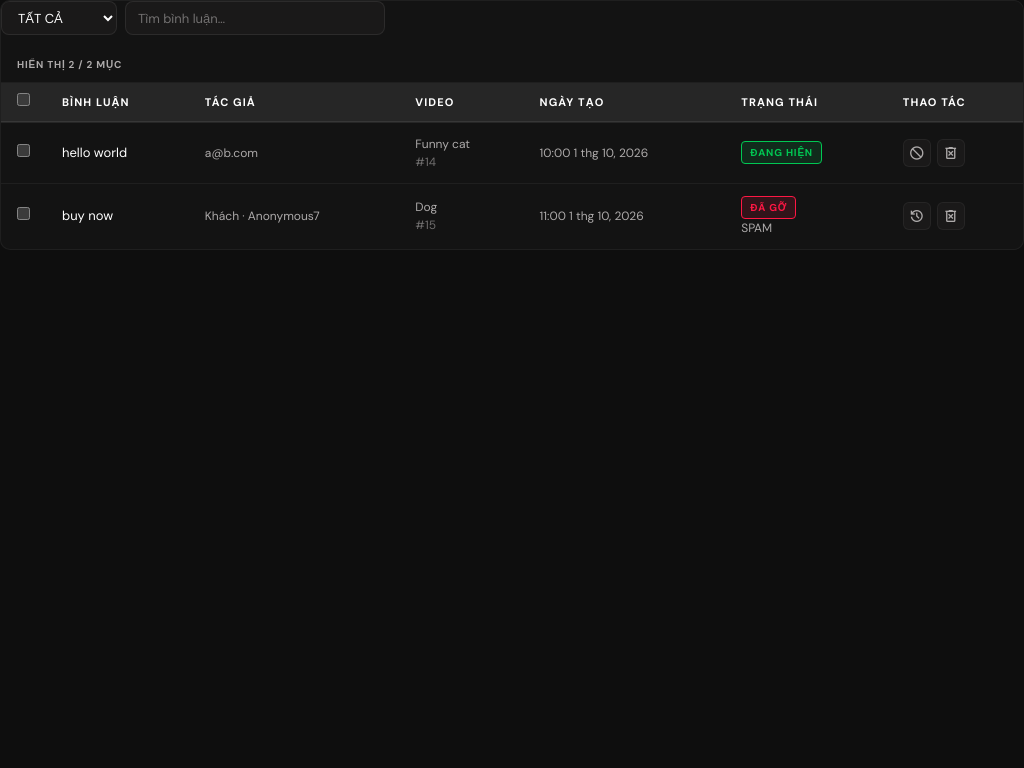
Test case: AdminCommentTable › OTHER requires a note
Check: the text "hello world" is shown, box [62, 144, 127, 161]
Click the button titled "Gỡ" at [917, 152], box [903, 138, 931, 166]
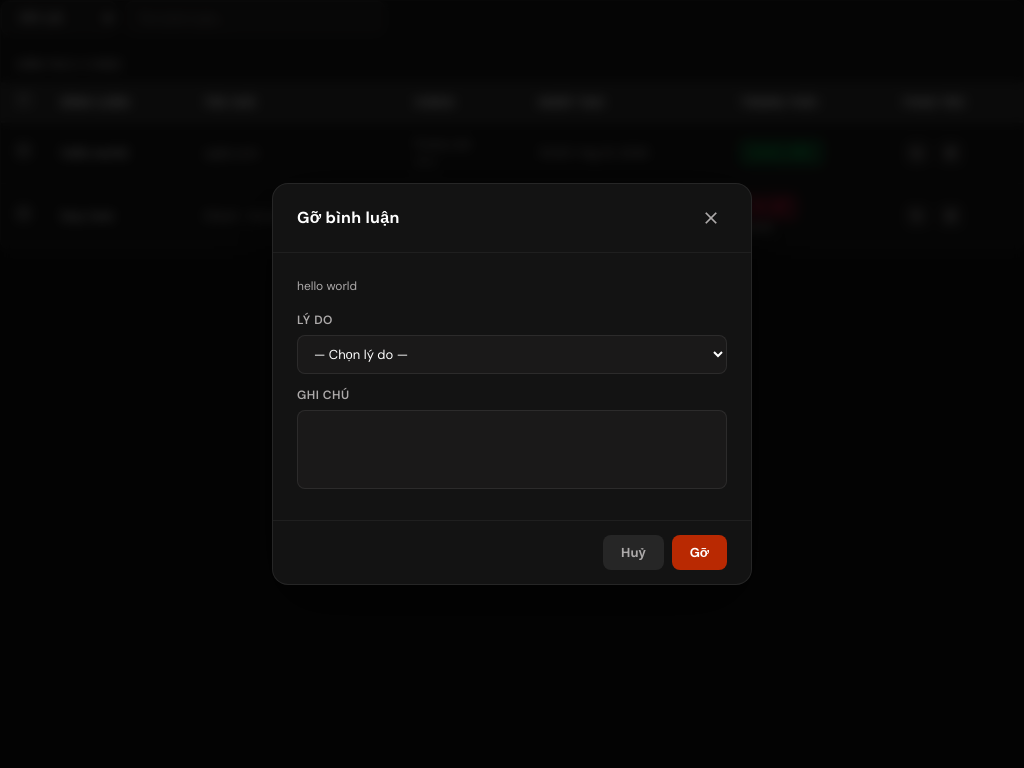
Select "Khác (cần ghi chú)" in the dropdown labelled "Lý do" at [512, 354], box [297, 335, 727, 374]
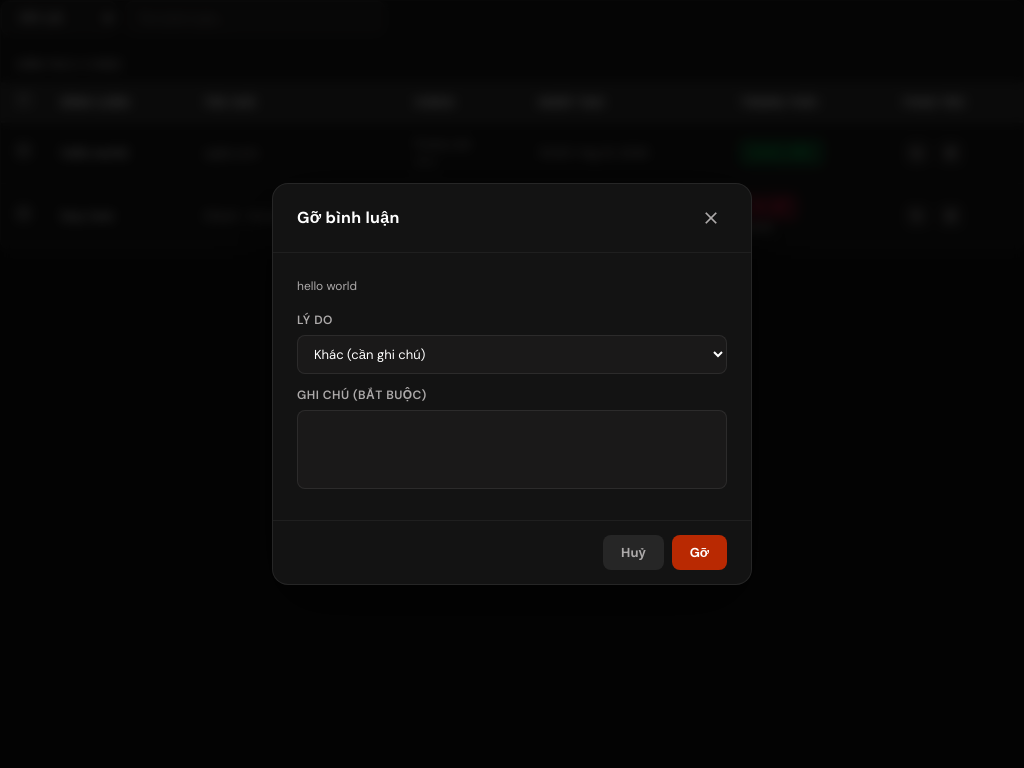
Click the button "Gỡ" at [699, 552], box [672, 534, 727, 570]
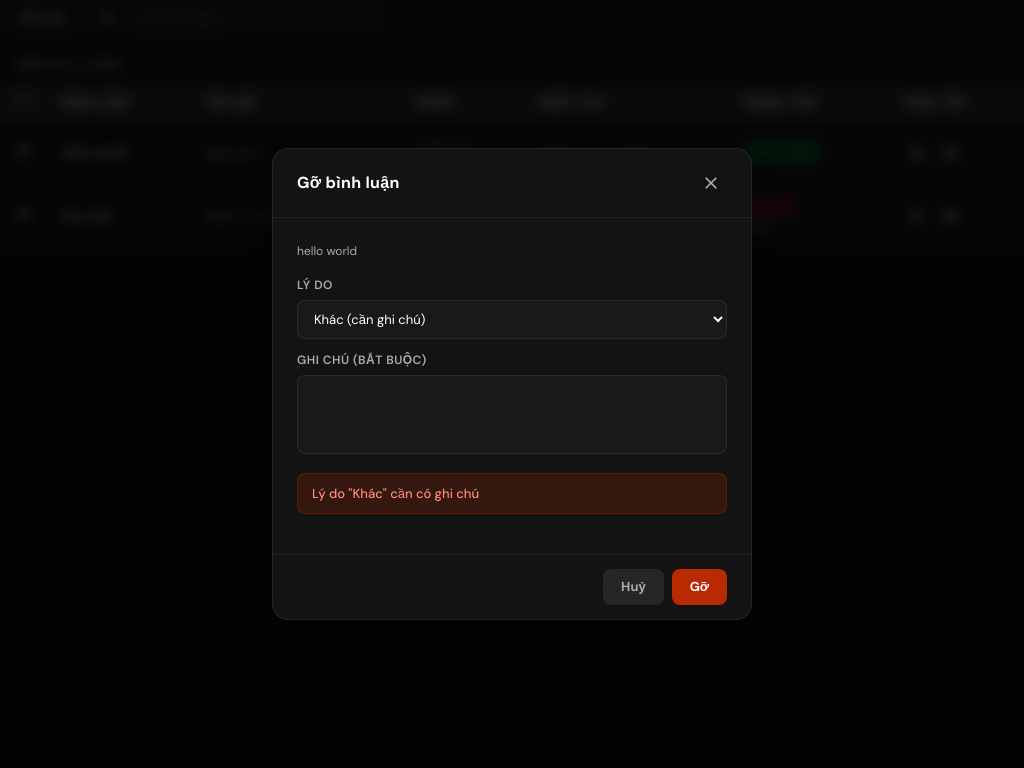
Check: the message shows "ghi chú", box [312, 485, 479, 502]
